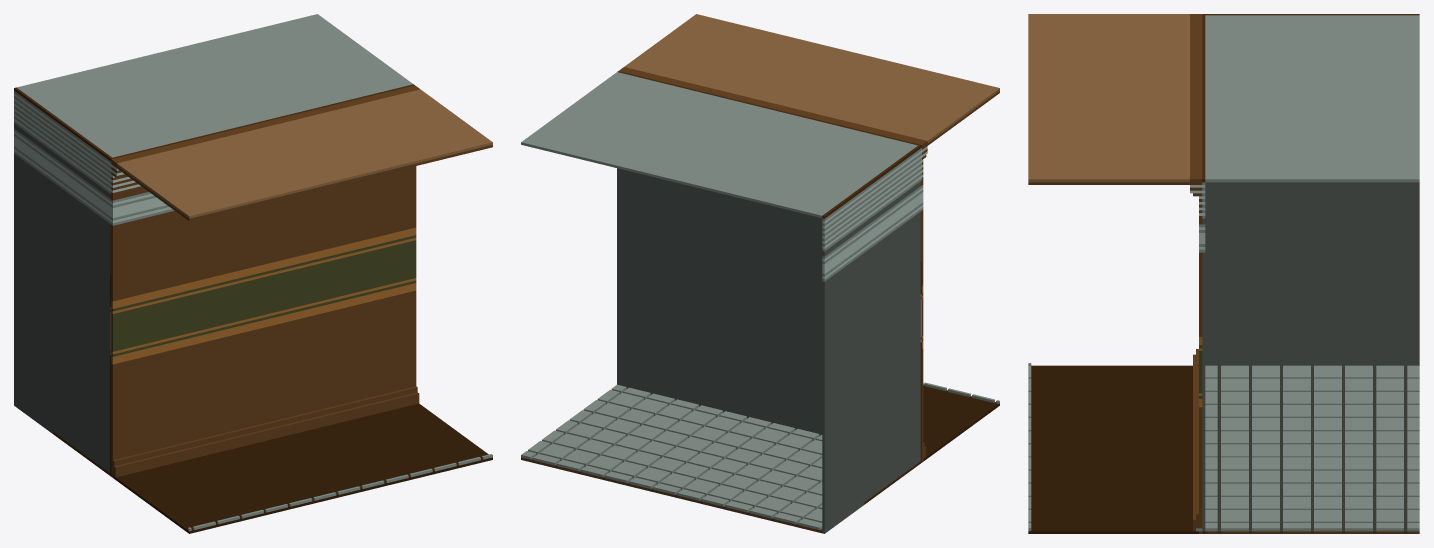
Rendered from i1-bath.obj.
The picture shows the model from 3 angles, left to right: view 1: azimuth 30°, elevation 25°; view 2: azimuth 150°, elevation 25°; view 3: azimuth 270°, elevation 25°; orthographic projection. The views are drawn at different scales.
Size of the model in its own units: 126 by 126 by 126.
Materials: 1 (1 with a texture image).
